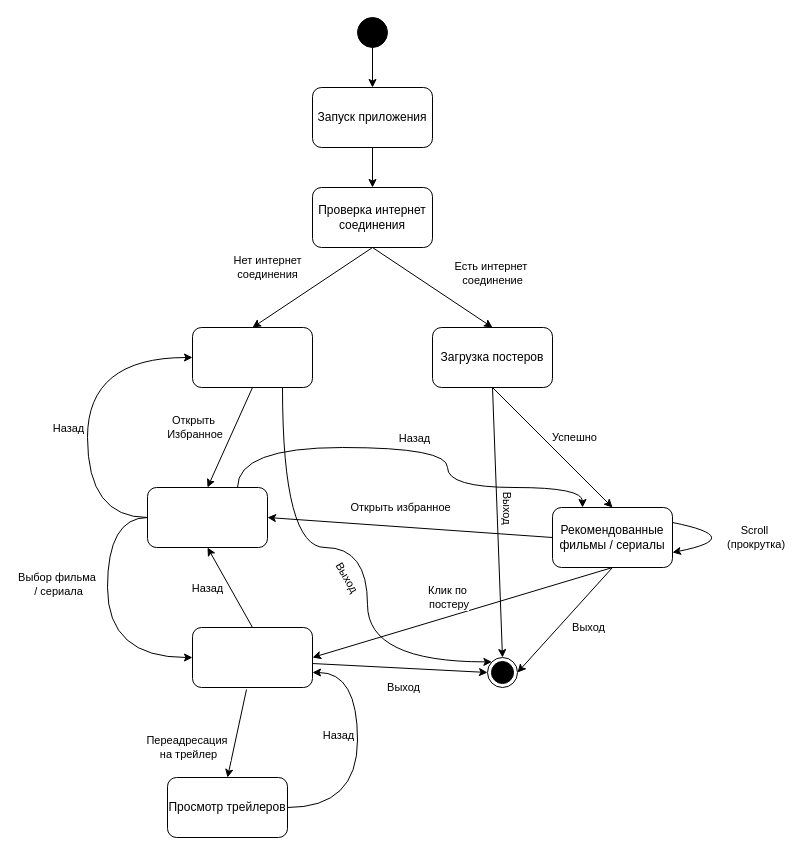
Image size: 802x855. Some labels were removed from this diagram. Here are the shapes that lost their labels. From the top down, the box of each, then its label:
(192, 326, 312, 388): Пустой экран
(146, 486, 268, 548): Избранное
(192, 626, 312, 688): Детали конкретного фильма / сериала
